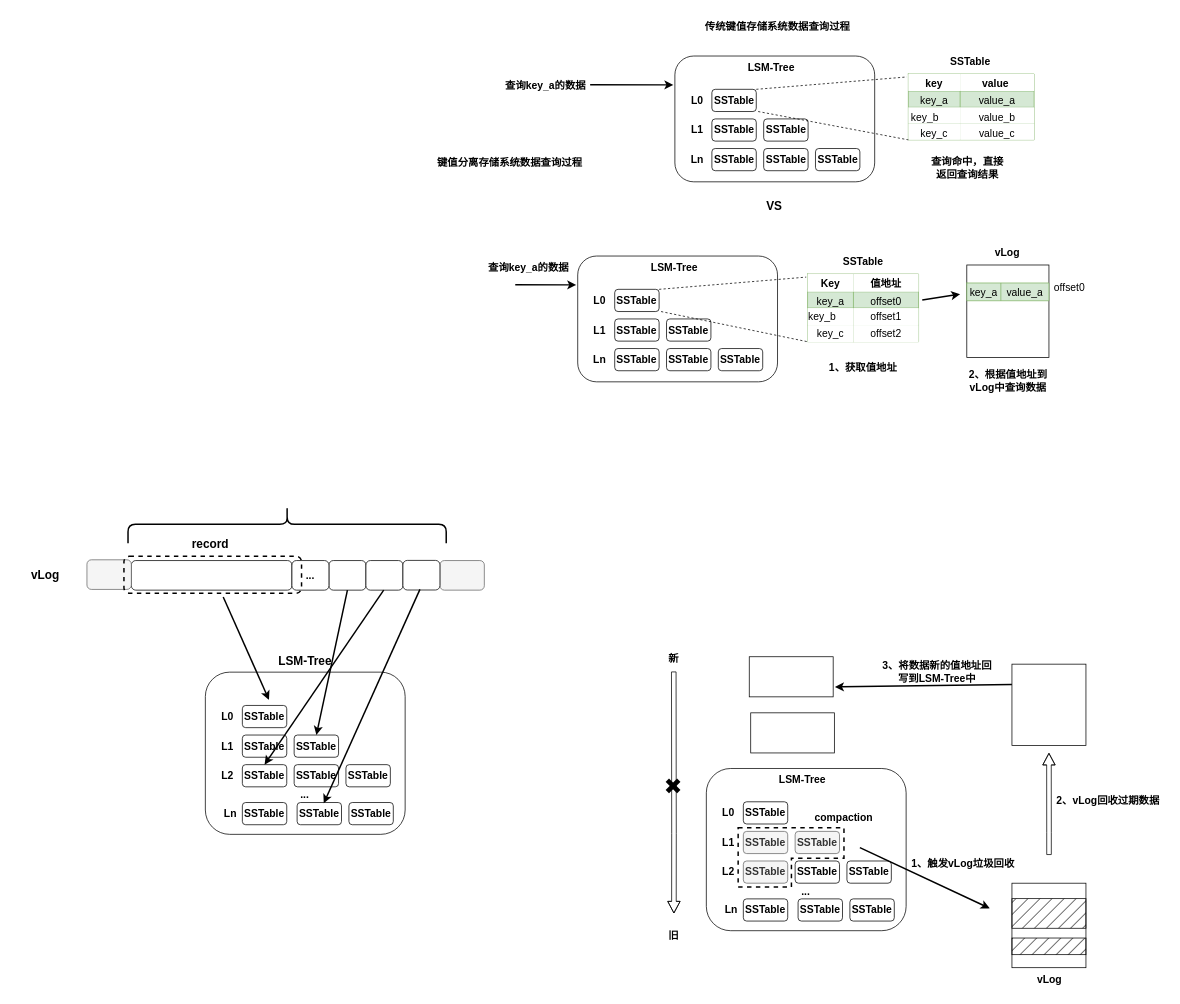
This 1180x1004 diagram has some shape labels left out. The box of each missing label's shape, as (x1, y1, x2, y2) in pixels:
key size, value size, key, value: (131, 560, 292, 590)
保留数据（旧）: (749, 656, 833, 697)
垃圾回收过程涉及的数据: (127, 504, 447, 544)
新写入的数据: (750, 712, 834, 753)
